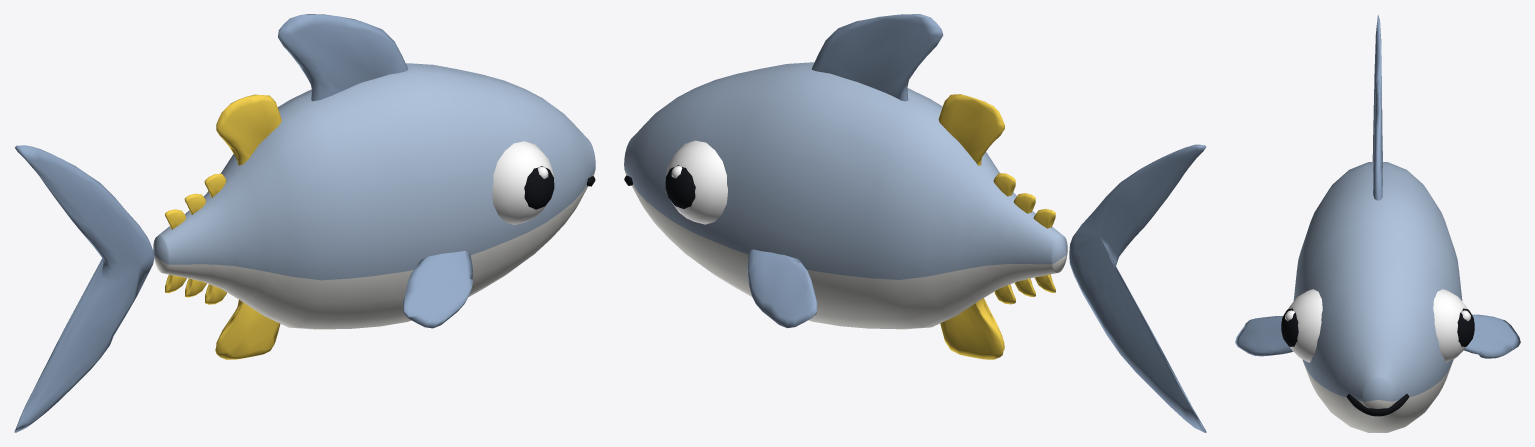
Rendered from fish_tuna.glb.
3 renders of one model, left to right at view 1: azimuth 30°, elevation 25°; view 2: azimuth 150°, elevation 25°; view 3: azimuth 270°, elevation 25°, orthographic. The views are drawn at different scales.
Parts seen in each view (by area): view 1: Fish, Tail, FinR; view 2: Fish, Tail, FinL; view 3: Fish, FinL, FinR, Tail.
Part boxes in pixels (<box>): Fish: <box>153,14,595,359</box>; Tail: <box>14,145,154,432</box>; FinR: <box>403,250,472,328</box>; Fish: <box>624,14,1067,359</box>; Tail: <box>1069,144,1206,432</box>; FinL: <box>747,249,817,328</box>; Fish: <box>1281,79,1474,432</box>; FinL: <box>1464,314,1520,358</box>; FinR: <box>1235,316,1293,356</box>; Tail: <box>1372,15,1382,161</box>.
Bounding box in the file's own units: 2.03 × 1.17 × 0.9795.
